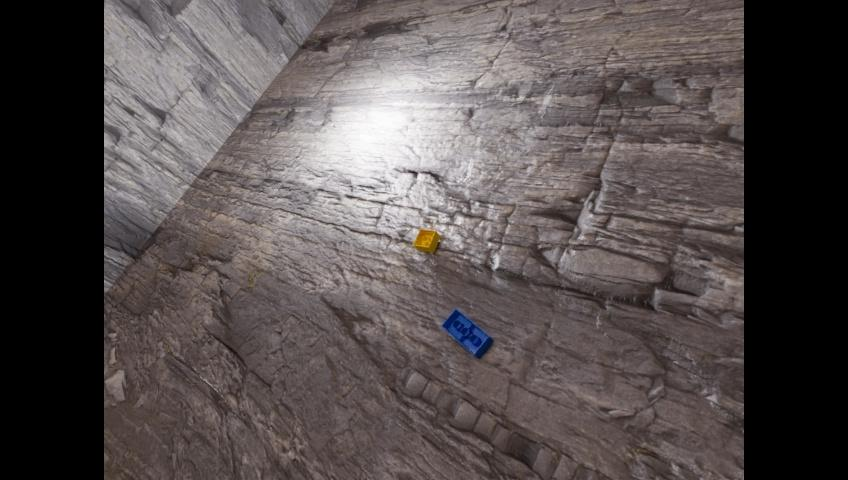2x2_yellow: (413, 228, 439, 252)
4x2_blue: (441, 308, 492, 358)
